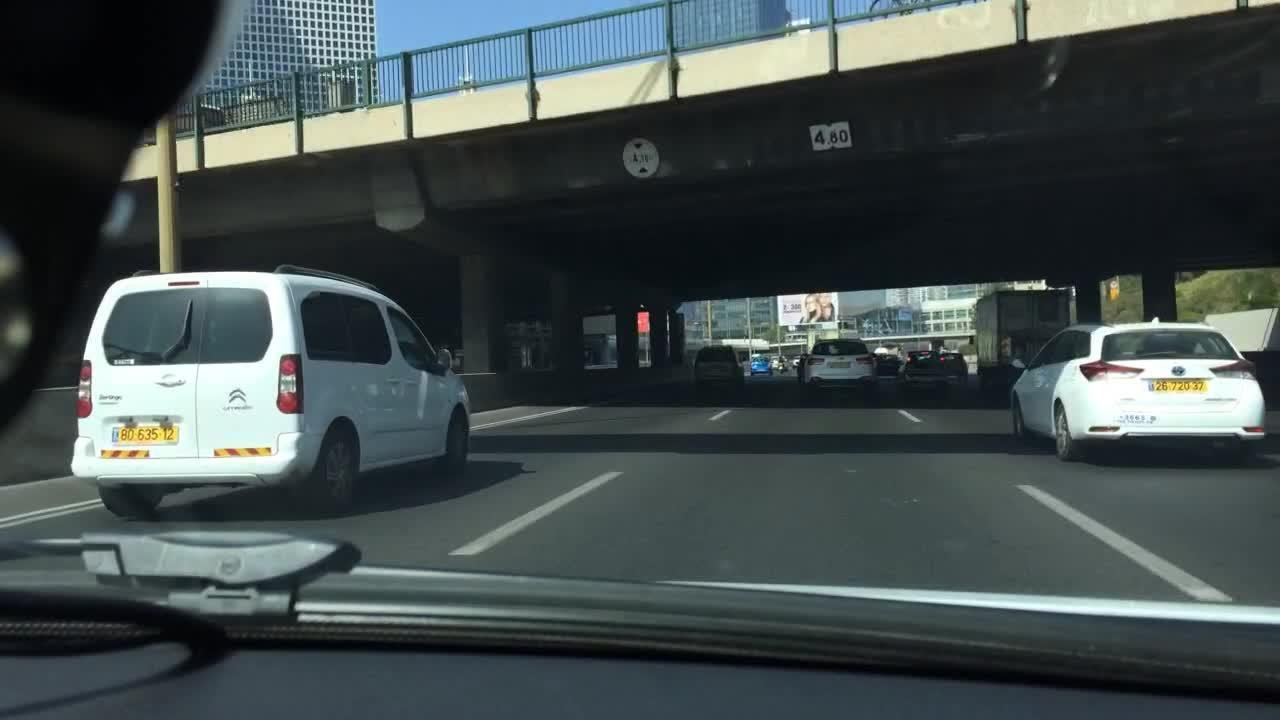Citroen: (218, 380, 256, 413)
Toyota: (1170, 361, 1192, 381)
